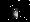person: (13, 9, 19, 20), (20, 9, 24, 20)
